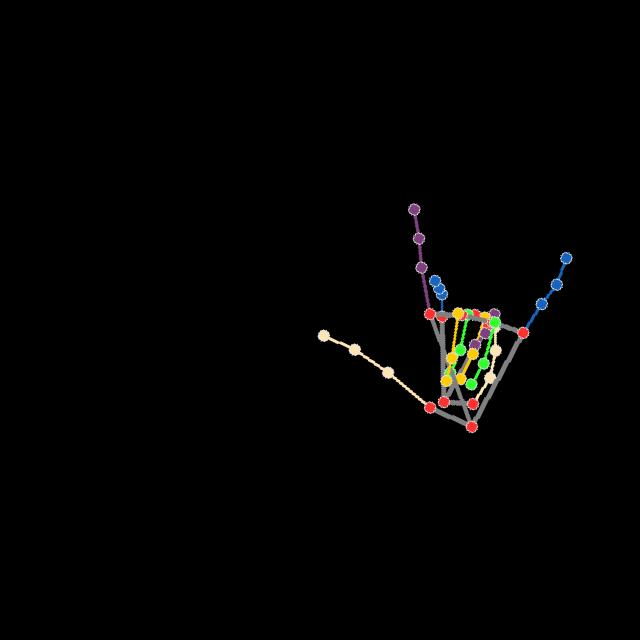spiderman: (308, 204, 574, 440)
